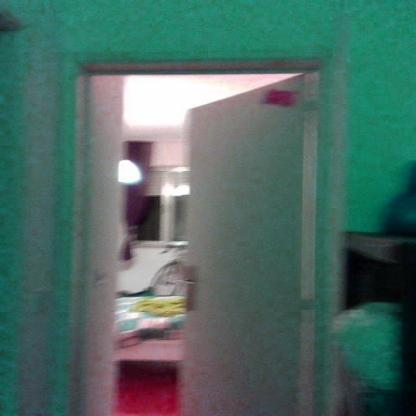door: (55, 36, 358, 415)
